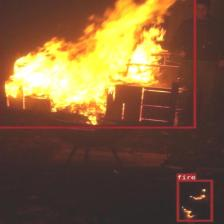fire: (0, 0, 195, 128), (176, 180, 212, 221)
